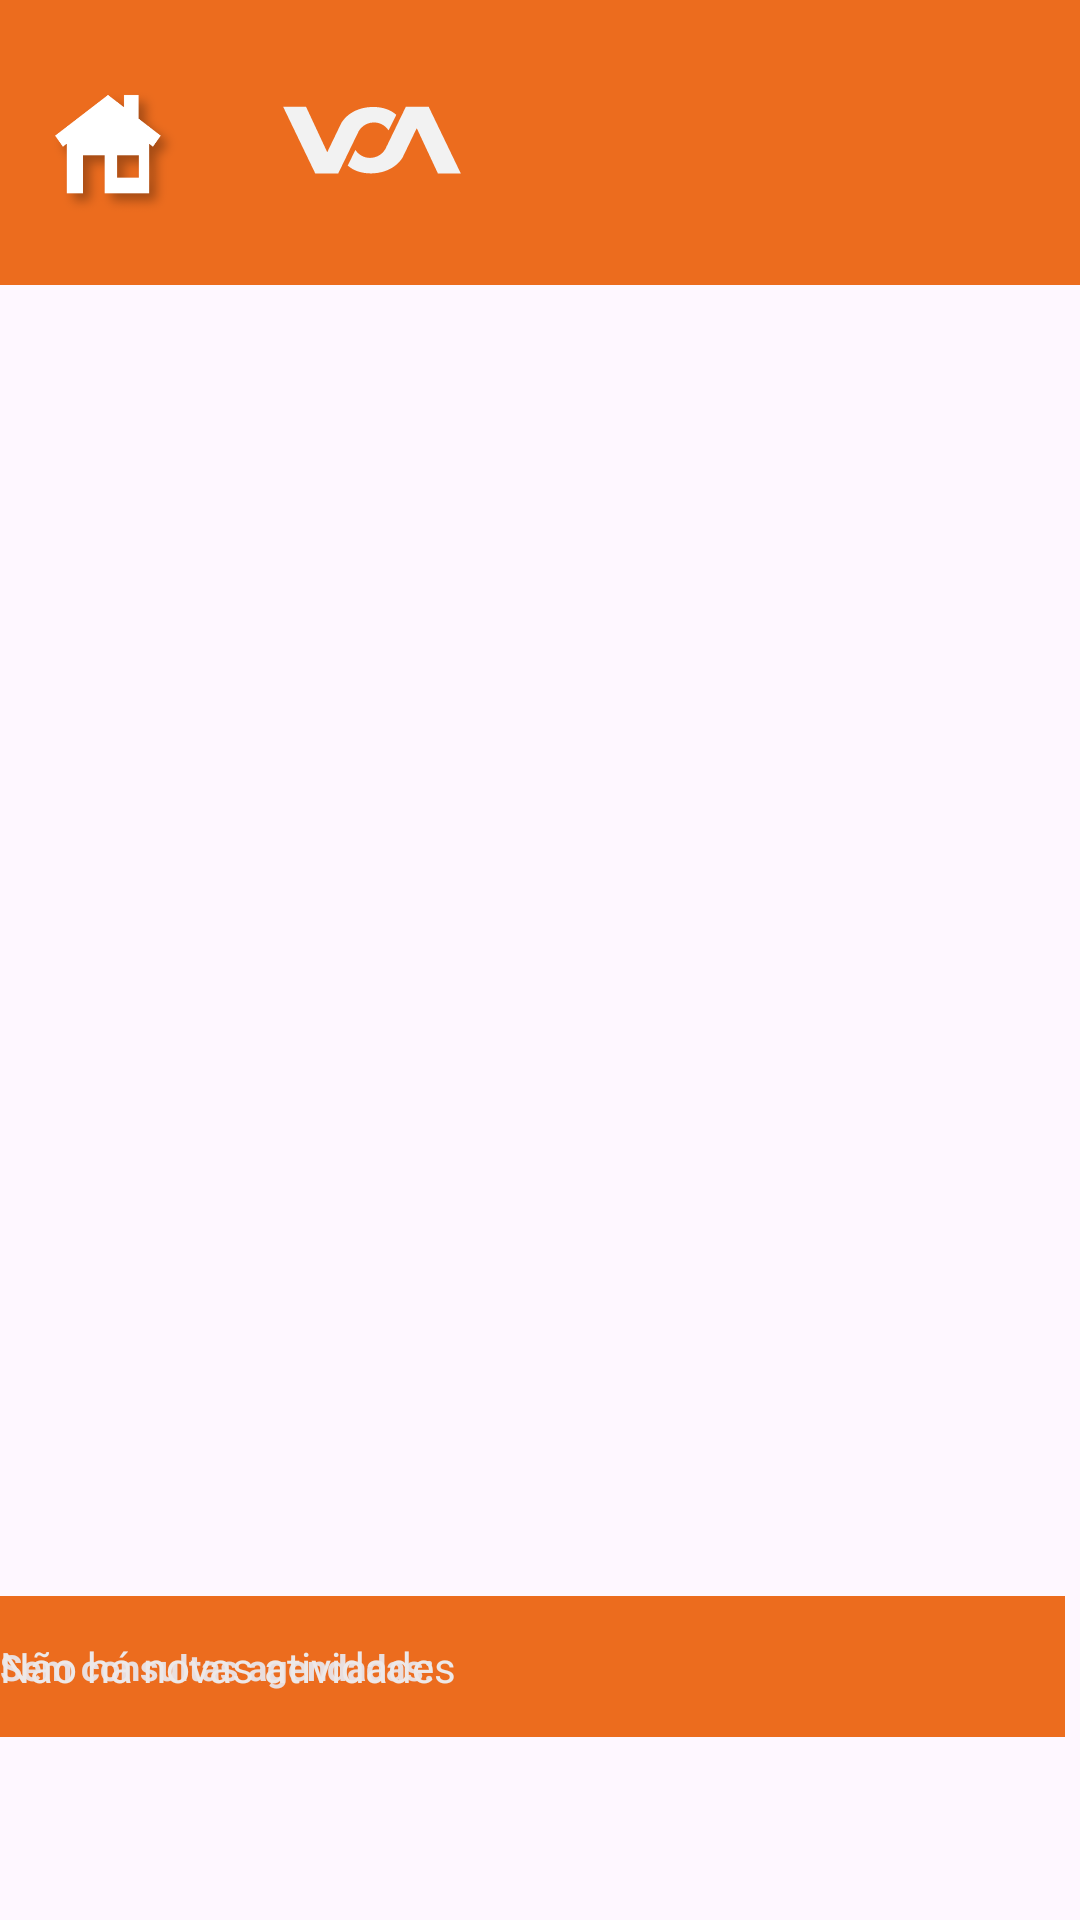

Icon bounding boxes for this 1080×1920 phone screenshot, format (x1, y1, x2, y2):
home: (55, 95, 167, 203)
